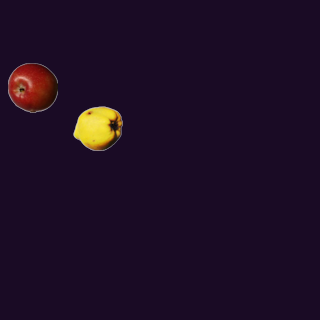Apple Braeburn: (7, 62, 57, 112)
Quince: (72, 103, 122, 153)
